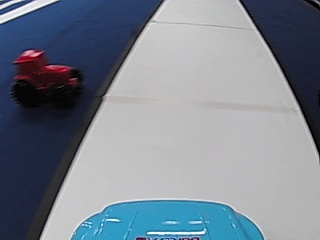tractor: (9, 46, 81, 108)
